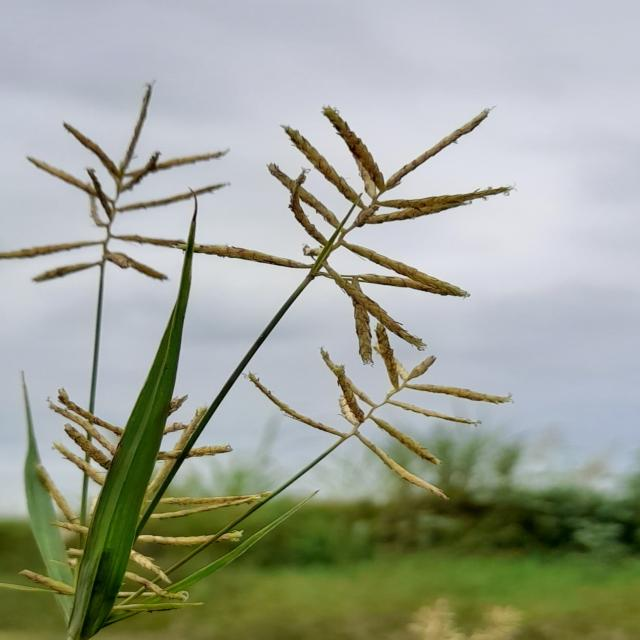cyperus: (7, 79, 534, 617), (248, 87, 524, 512), (4, 346, 265, 616), (0, 75, 243, 306)
